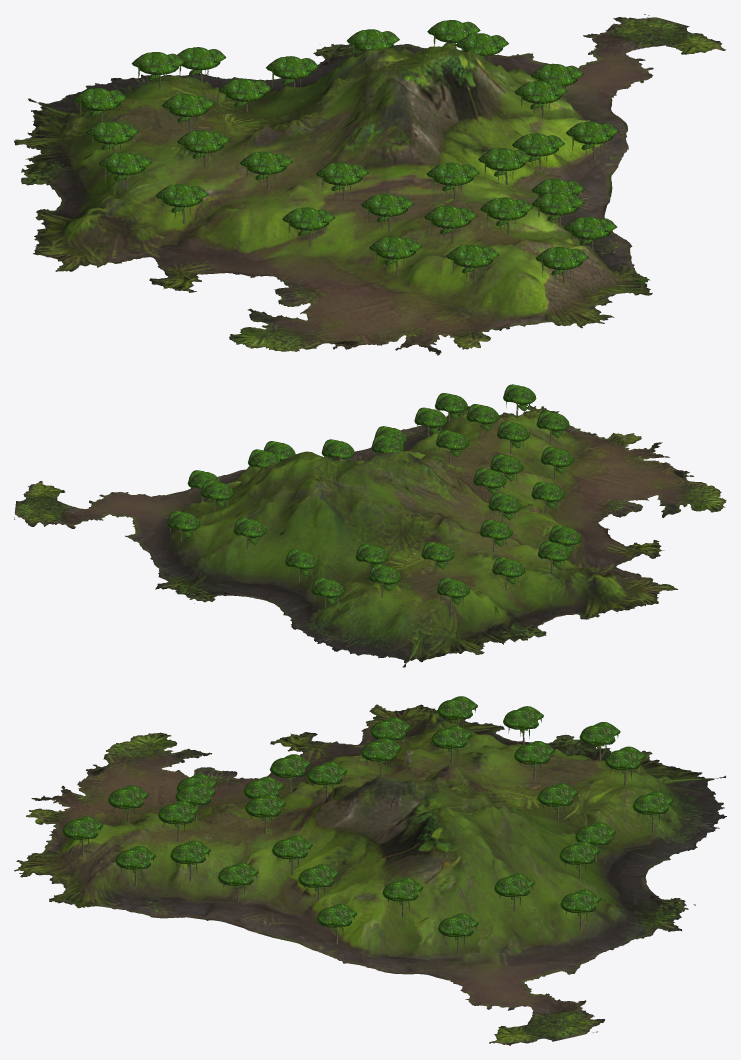
The model's file is jungle.fbx.
3 views of the same model, one above another, from view 1: azimuth 30°, elevation 25°; view 2: azimuth 150°, elevation 25°; view 3: azimuth 270°, elevation 25° (orthographic). The views are drawn at different scales.
Parts seen in each view (by area): view 1: Mesh_0, JungleTree1.010, JungleTree1.012, JungleTree1.011, JungleTree1, JungleTree1.004, JungleTree1.014, JungleTree1.002, JungleTree1.021, JungleTree1.027, JungleTree1.009, JungleTree1.022 (+20 smaller); view 2: Mesh_0, JungleTree1.022, JungleTree1.025, JungleTree1, JungleTree1.019, JungleTree1.010, JungleTree1.017, JungleTree1.002, JungleTree1.008, JungleTree1.009, JungleTree1.016, JungleTree1.011 (+17 smaller); view 3: Mesh_0, JungleTree1.026, JungleTree1.005, JungleTree1.008, JungleTree1.027, JungleTree1.007, JungleTree1.010, JungleTree1.020, JungleTree1.003, JungleTree1.013, JungleTree1.022, JungleTree1.004 (+19 smaller).
Boxes of the visible parts, box(x1,y1,x2,y2) form: Mesh_0: box(14, 14, 725, 355); JungleTree1.010: box(480, 197, 533, 235); JungleTree1.012: box(361, 193, 414, 232); JungleTree1.011: box(424, 205, 477, 242); JungleTree1: box(282, 207, 334, 246); JungleTree1.004: box(478, 148, 531, 184); JungleTree1.014: box(239, 151, 292, 189); JungleTree1.002: box(369, 236, 421, 275); JungleTree1.021: box(131, 52, 184, 89); JungleTree1.027: box(566, 121, 618, 159); JungleTree1.009: box(446, 244, 499, 282); JungleTree1.022: box(161, 94, 214, 131); Mesh_0: box(14, 404, 726, 667); JungleTree1.022: box(421, 542, 454, 574); JungleTree1.025: box(233, 517, 266, 549); JungleTree1: box(531, 482, 564, 515); JungleTree1.019: box(436, 578, 469, 611); JungleTree1.010: box(466, 404, 499, 437); JungleTree1.017: box(479, 519, 512, 552); JungleTree1.002: box(540, 447, 573, 480); JungleTree1.008: box(503, 384, 536, 417); JungleTree1.009: box(536, 411, 569, 444); JungleTree1.016: box(492, 557, 525, 590); JungleTree1.011: box(497, 421, 529, 454); Mesh_0: box(14, 704, 726, 1045); JungleTree1.026: box(437, 913, 478, 954); JungleTree1.005: box(217, 862, 258, 903); JungleTree1.008: box(62, 816, 102, 856); JungleTree1.027: box(316, 903, 356, 944); JungleTree1.007: box(115, 846, 155, 886); JungleTree1.010: box(158, 800, 198, 841); JungleTree1.020: box(632, 791, 673, 830); JungleTree1.003: box(170, 840, 210, 881); JungleTree1.013: box(245, 794, 285, 833); JungleTree1.022: box(514, 741, 554, 780); JungleTree1.004: box(271, 835, 312, 874).
Size of the model in its own units: 97.09 by 12.08 by 85.7.
Materials: 4 (4 with a texture image).
